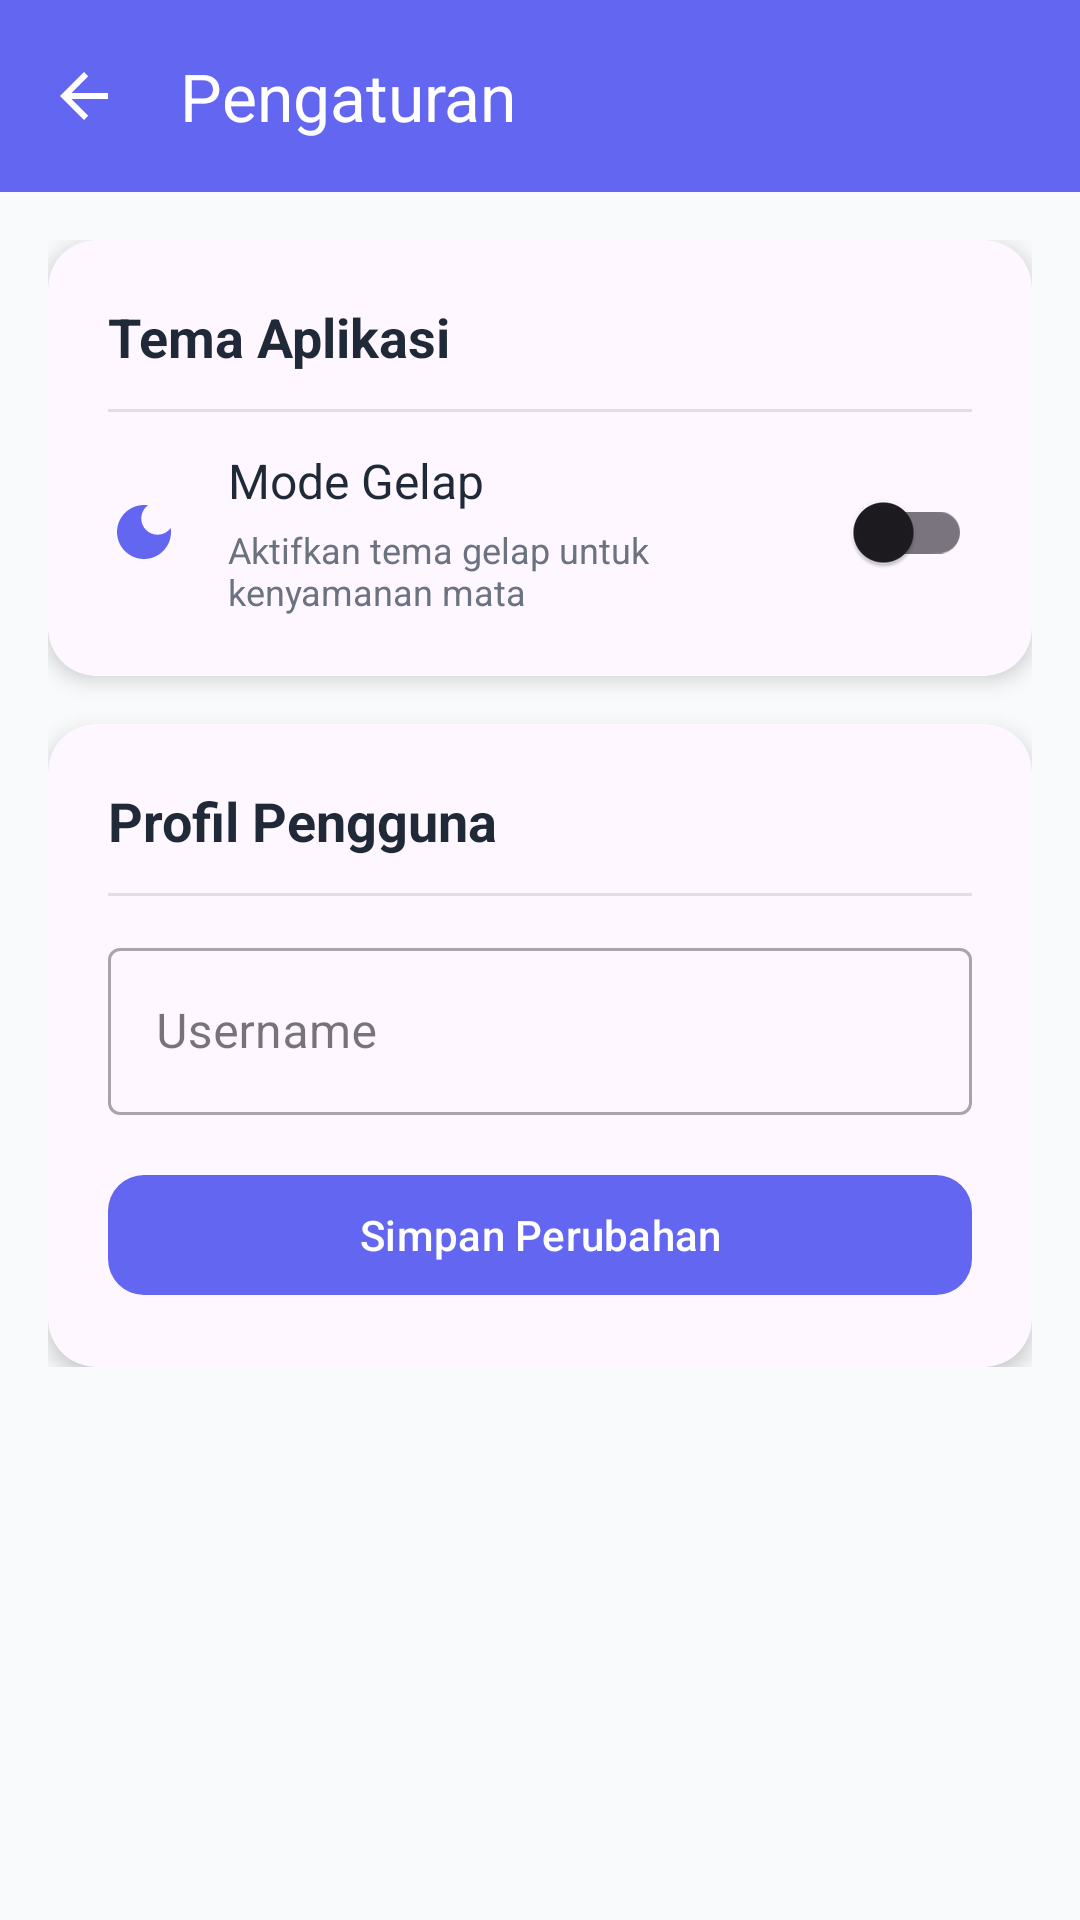

Named icons in this screenshot (1080*1920) and their bounding boxes, (x1, y1, x2, y2):
Dark Mode Icon: (117, 505, 171, 559)
